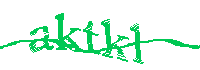a: (28, 24, 53, 52)
k: (101, 16, 130, 63), (55, 13, 82, 54)
l: (130, 22, 145, 65)
t: (83, 22, 102, 56)
